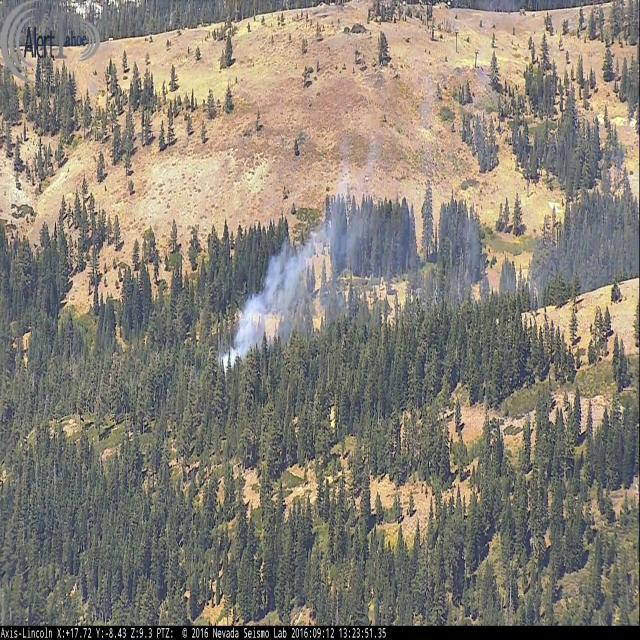smoke: (219, 0, 640, 370)
